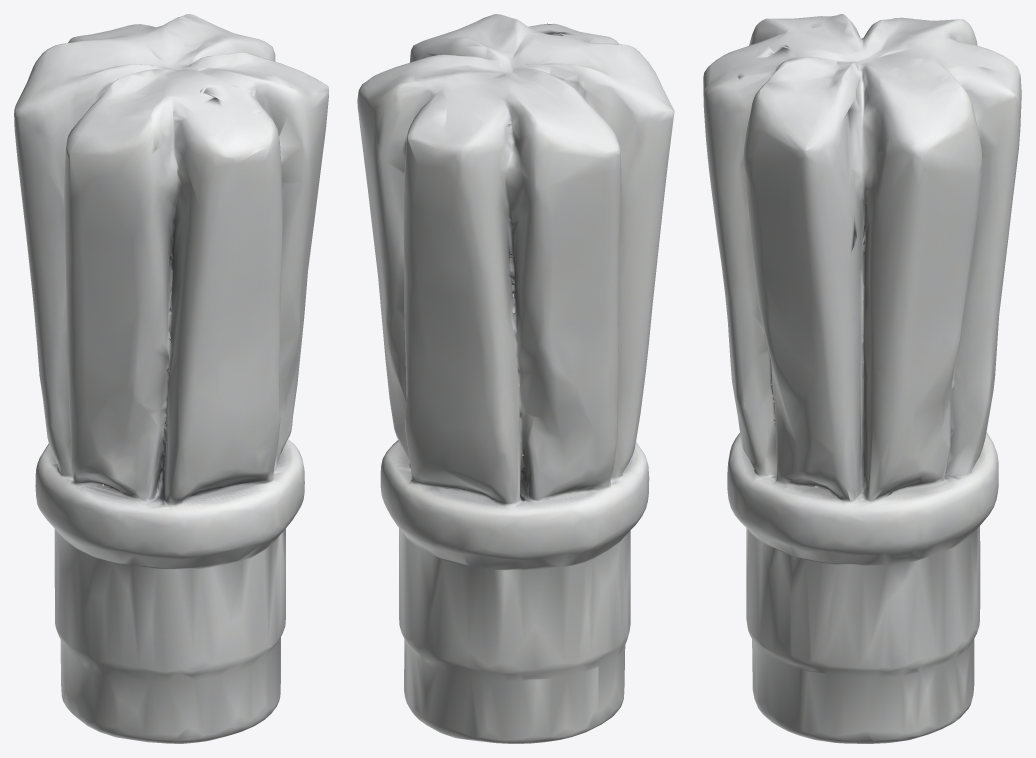
The model's file is chef_hat.glb.
3 views of the same model, side by side, from view 1: azimuth 30°, elevation 25°; view 2: azimuth 150°, elevation 25°; view 3: azimuth 270°, elevation 25° (orthographic).
Size of the model in its own units: 0.8423 by 2 by 0.8786.
1 material, 1 textured.
